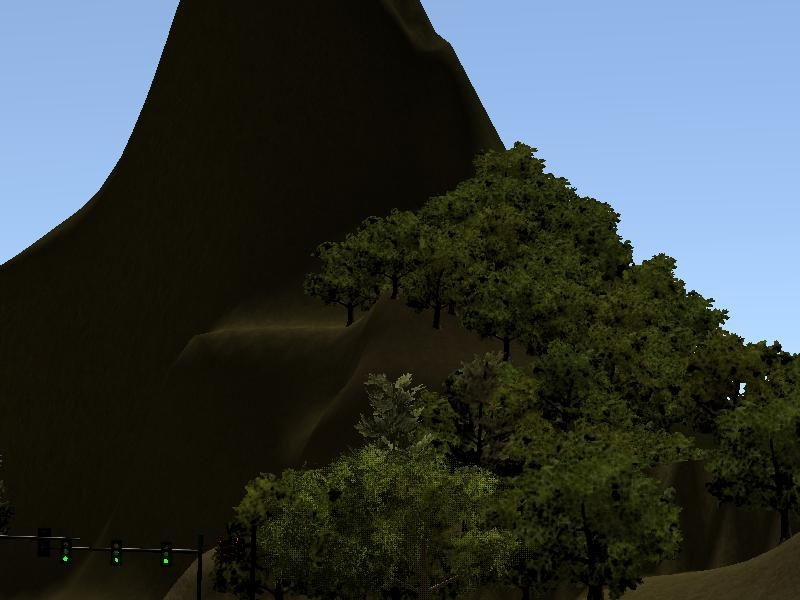GREEN: (157, 539, 173, 571), (108, 537, 123, 568), (59, 539, 74, 569)
